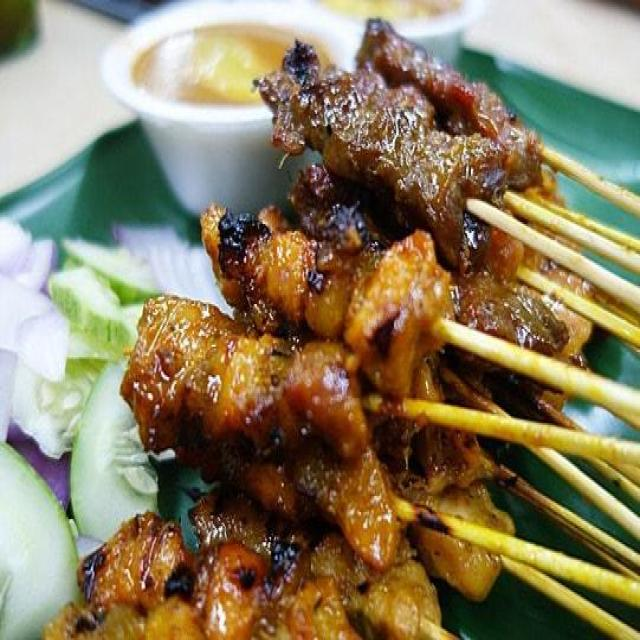Sate: (95, 32, 640, 640)
